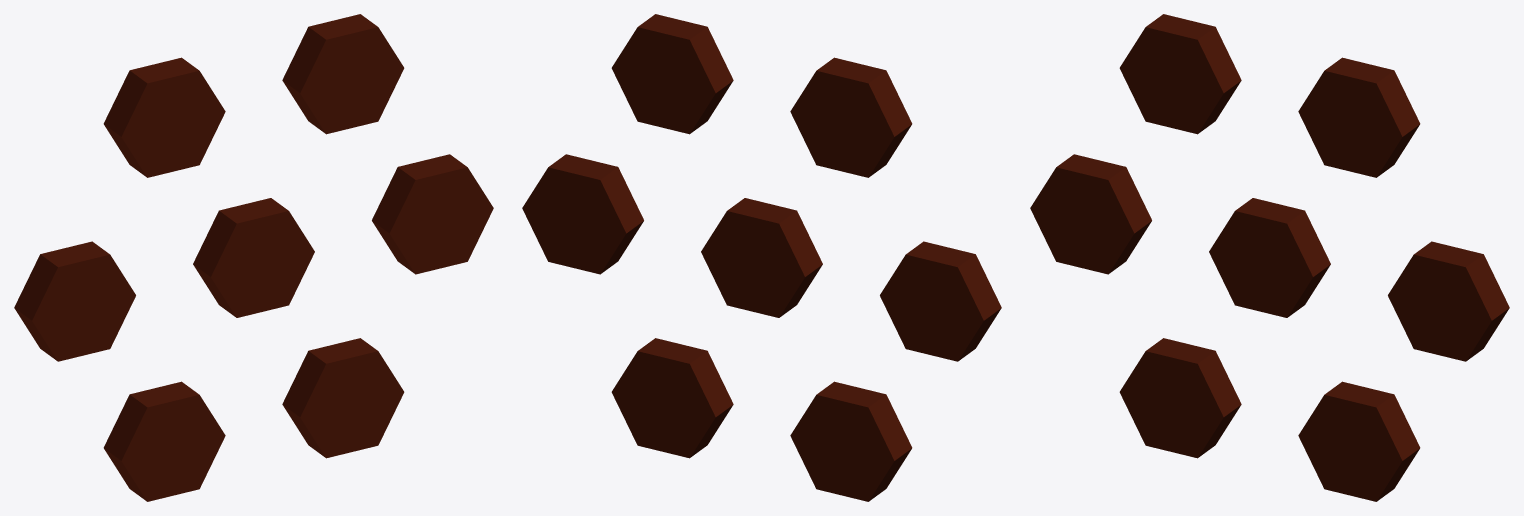
The model's file is burn_rack_port.glb.
The picture shows the model from 3 angles, left to right: view 1: azimuth 30°, elevation 25°; view 2: azimuth 150°, elevation 25°; view 3: azimuth 330°, elevation 25°; orthographic projection.
Visible parts, largest first — view 1: burn_shell.002, burn_shell.005, burn_shell.001, burn_shell.003, burn_shell.004, burn_shell.006, burn_shell; view 2: burn_shell.002, burn_shell.005, burn_shell.001, burn_shell.003, burn_shell.004, burn_shell.006, burn_shell; view 3: burn_shell.003, burn_shell.006, burn_shell.001, burn_shell.002, burn_shell.004, burn_shell.005, burn_shell.
Boxes of the visible parts, left/top/right/bottom form: burn_shell.002: left=282, top=14, right=404, bottom=134; burn_shell.005: left=103, top=381, right=225, bottom=501; burn_shell.001: left=372, top=154, right=493, bottom=274; burn_shell.003: left=103, top=57, right=225, bottom=177; burn_shell.004: left=14, top=241, right=135, bottom=361; burn_shell.006: left=282, top=338, right=404, bottom=458; burn_shell: left=193, top=198, right=314, bottom=317; burn_shell.002: left=611, top=14, right=733, bottom=134; burn_shell.005: left=790, top=381, right=912, bottom=501; burn_shell.001: left=522, top=154, right=643, bottom=274; burn_shell.003: left=790, top=57, right=912, bottom=177; burn_shell.004: left=880, top=241, right=1001, bottom=361; burn_shell.006: left=611, top=338, right=733, bottom=458; burn_shell: left=701, top=198, right=822, bottom=317; burn_shell.003: left=1119, top=14, right=1241, bottom=134; burn_shell.006: left=1298, top=381, right=1420, bottom=501; burn_shell.001: left=1388, top=241, right=1509, bottom=361; burn_shell.002: left=1298, top=57, right=1420, bottom=177; burn_shell.004: left=1030, top=154, right=1151, bottom=274; burn_shell.005: left=1119, top=338, right=1241, bottom=458; burn_shell: left=1209, top=198, right=1330, bottom=317.
Size of the model in its own units: 7.44 by 6.44 by 0.5.
Materials: 1 (1 with a texture image).
